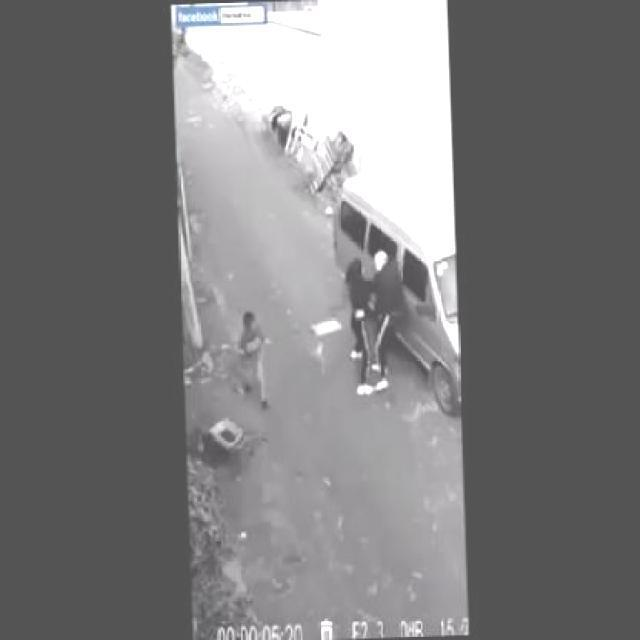fight: (342, 247, 410, 398)
non-fight: (233, 310, 278, 408)
